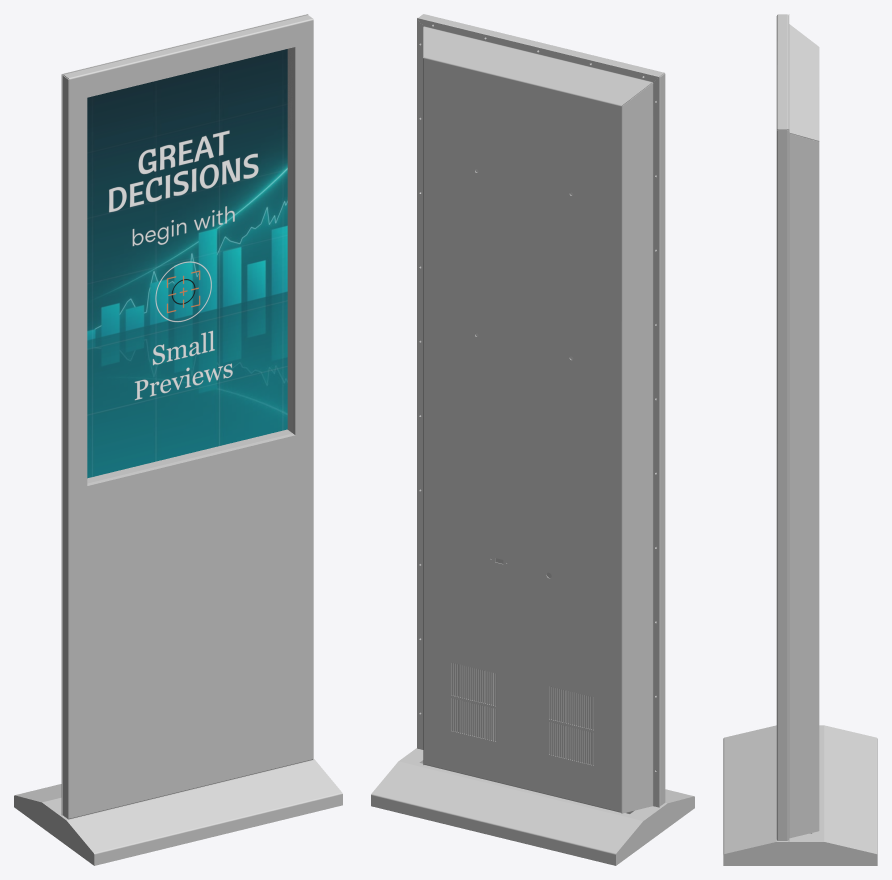
The picture shows the model from 3 angles, left to right: view 1: azimuth 30°, elevation 25°; view 2: azimuth 150°, elevation 25°; view 3: azimuth 270°, elevation 25°; orthographic projection. The views are drawn at different scales.
Visible parts, largest first — view 1: 32 Inch Totem - Assy, 32 Inch Totem - Assy.001; view 2: 32 Inch Totem - Assy; view 3: 32 Inch Totem - Assy.
Part boxes in pixels (x1,y1,x2,y2): 32 Inch Totem - Assy: [14, 14, 342, 865]; 32 Inch Totem - Assy.001: [87, 48, 292, 483]; 32 Inch Totem - Assy: [371, 14, 694, 865]; 32 Inch Totem - Assy: [723, 14, 877, 865].
Size of the model in its own units: 0.4654 by 1.37 by 0.26.
Materials: 5 (1 with a texture image).
